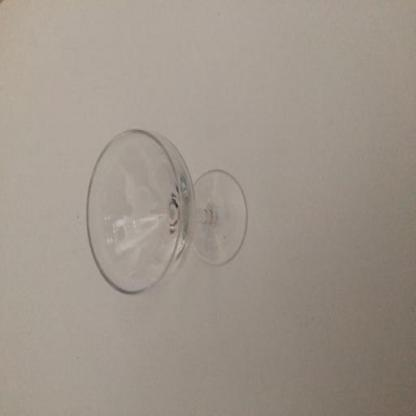Glass: (86, 129, 248, 294)
